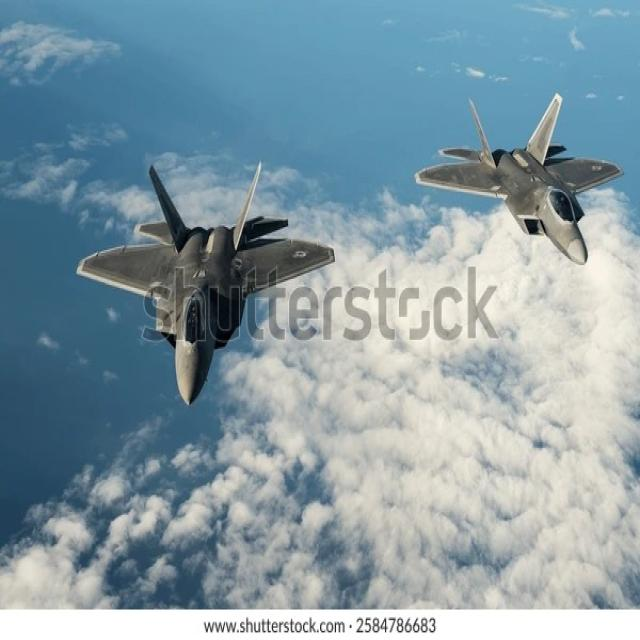F22: (44, 126, 355, 420), (399, 40, 640, 274)
